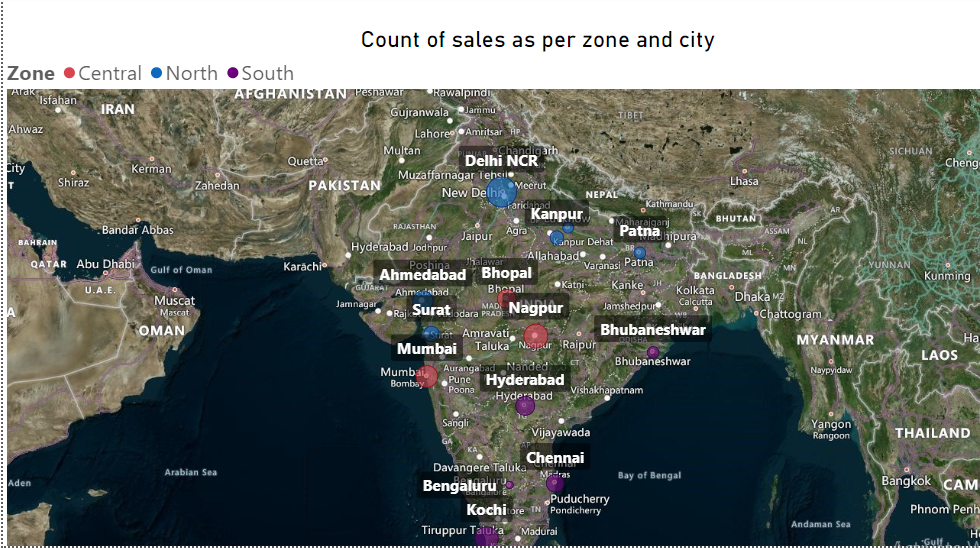

The page's visual inventory and layout, read from the dashboard file:
{"tool":"powerbi","page":{"name":"Dashboard 2","canvas":[1280,720],"ordinal":1},"visuals":[{"type":"map","title":"Count of sales as per zone and city ","fields":{"Category":["sales markets.markets_name"],"Series":["sales markets.zone"],"Size":["Count(sales transactions.sales_qty)"]},"box":[0,39.1,1400.8,810.9],"z":0}]}

Visuals, with their boxes in screenshot pixels (x1, y1, x2, y2), scaled from the page's 1280x720 canvas onto the 980x548 screenshot:
"Count of sales as per zone and city " map: detection(0, 30, 979, 547)
